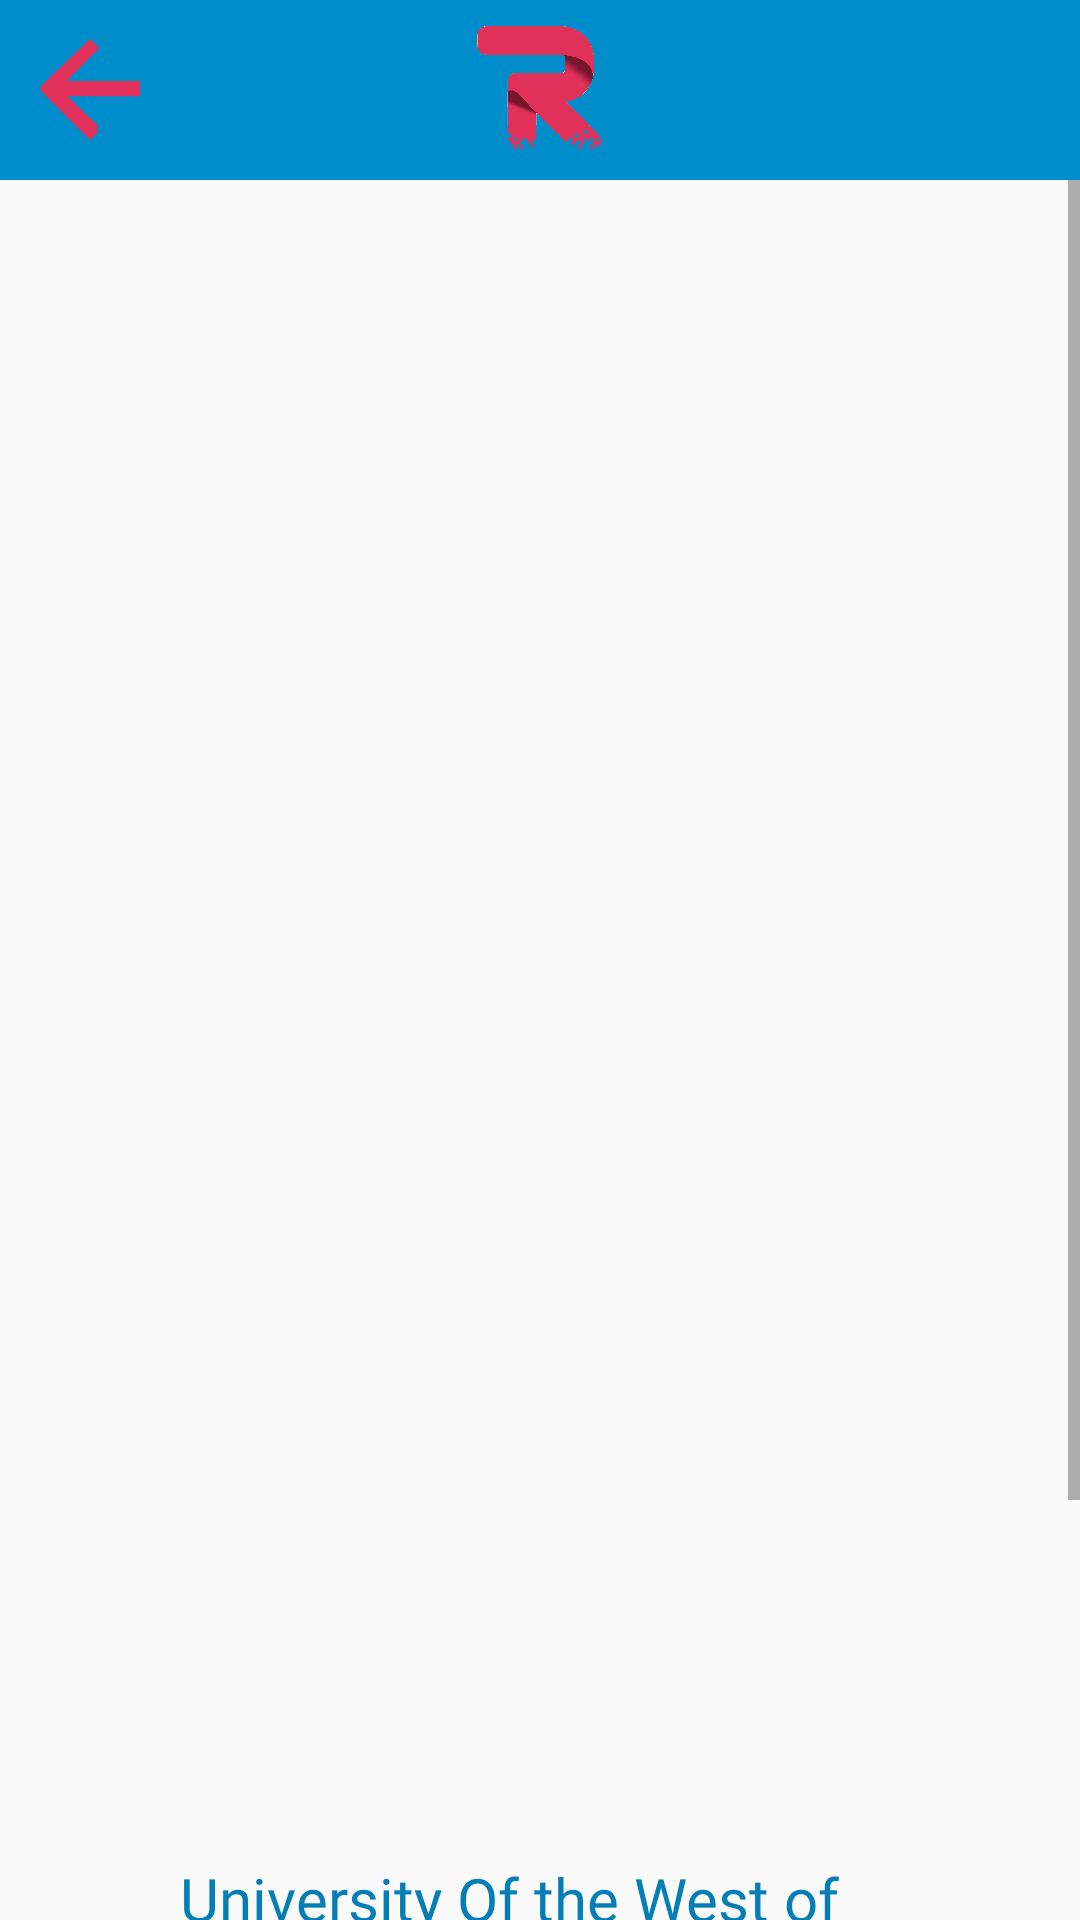

Icon click points for this 1080px×1920px phone screenshot, format [x,y]:
backbutton: [90,89]
